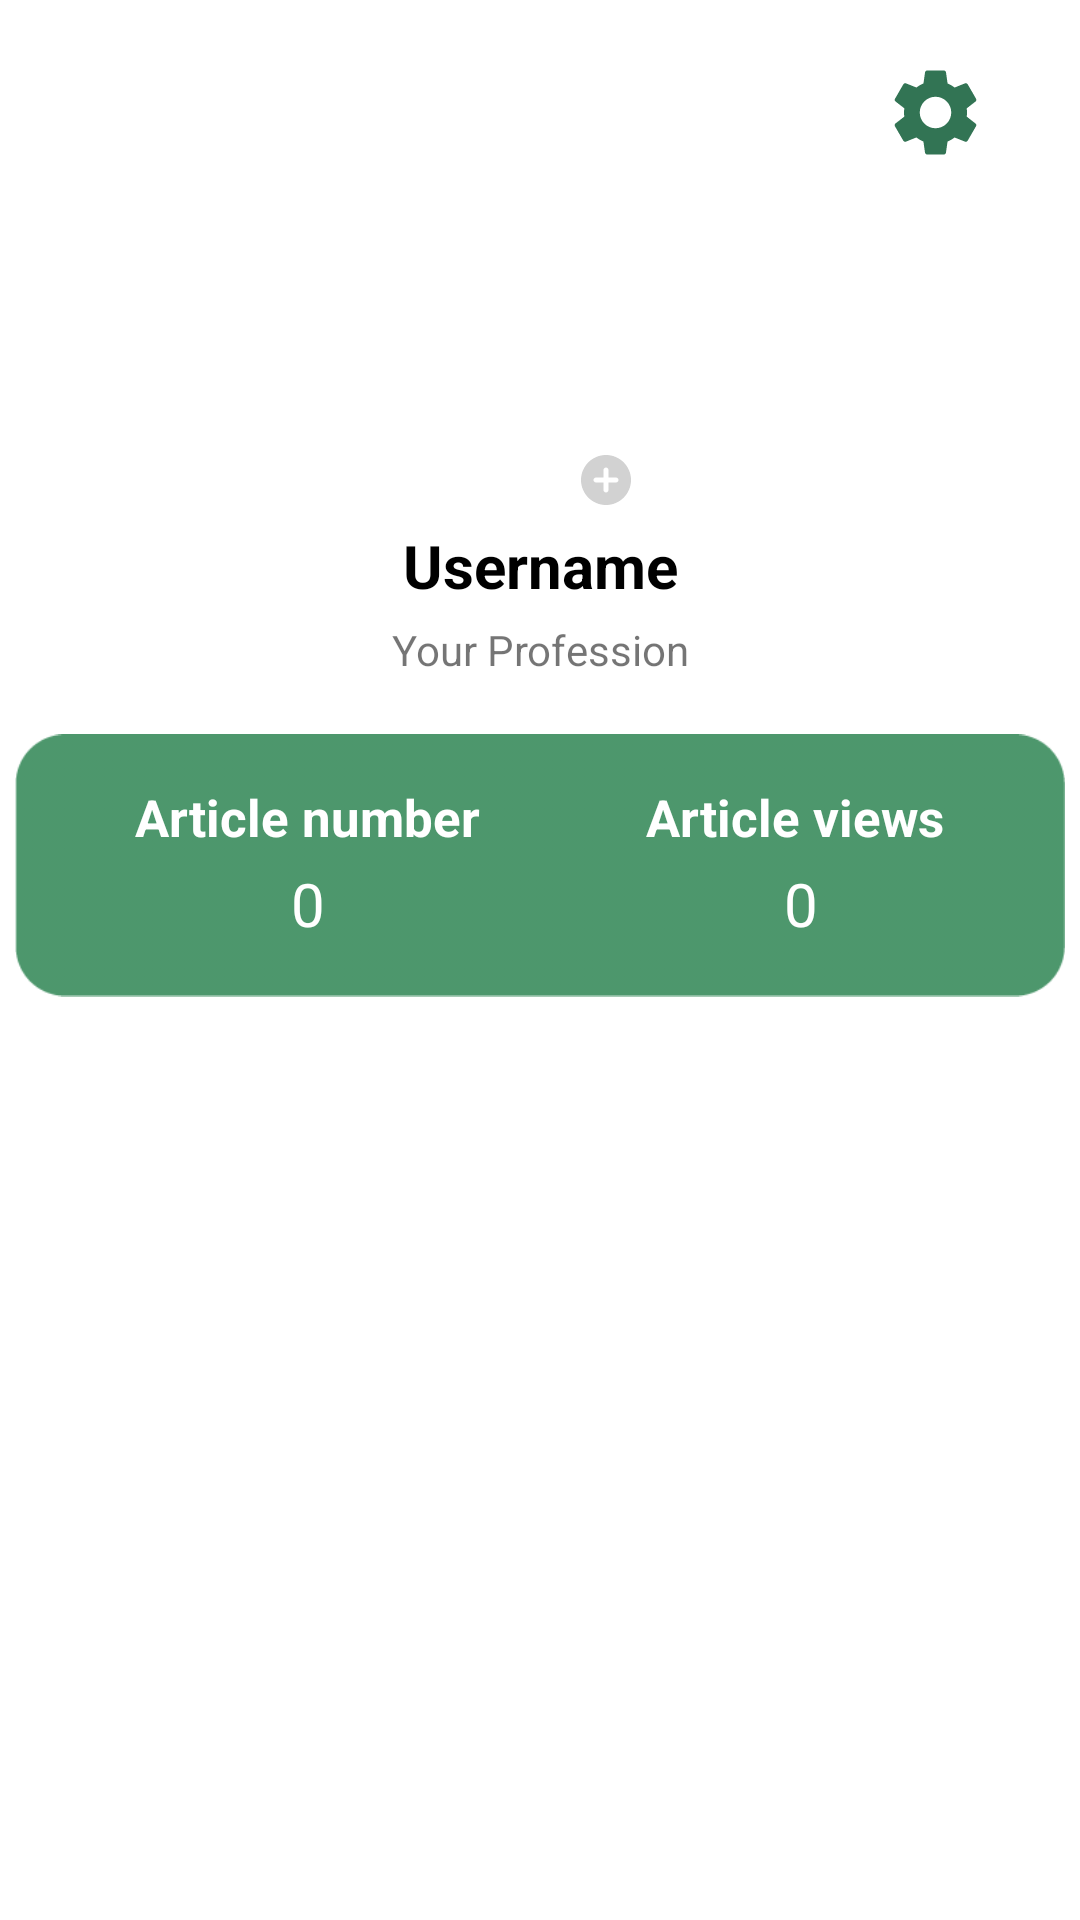

Icons on this 1080 x 1920 Android screen, each with its box as [x1, y1, x2, y2]:
add profile picture: [581, 455, 631, 505]
user settings: [894, 70, 977, 155]
